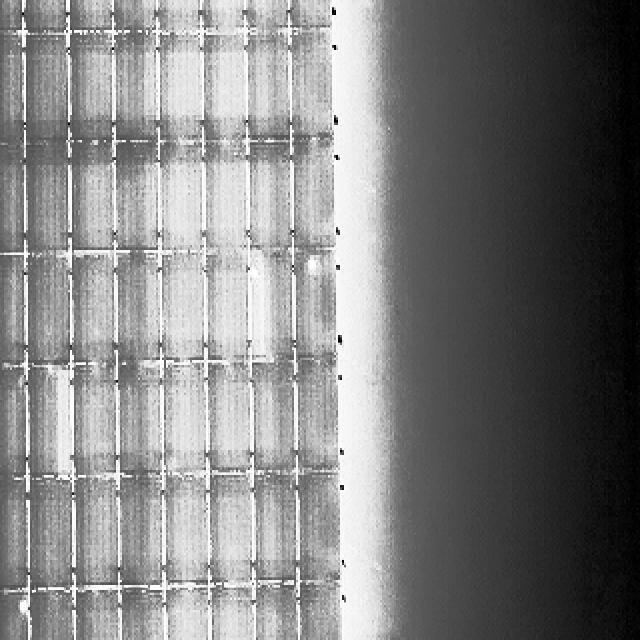Hotspots: (304, 259, 326, 273), (16, 600, 31, 616), (250, 264, 262, 280)
PV-modules: (69, 371, 119, 484), (297, 357, 345, 472), (298, 471, 347, 583), (71, 480, 120, 590), (163, 368, 210, 482), (26, 253, 74, 364), (69, 255, 116, 367), (114, 250, 161, 362), (161, 256, 208, 368), (114, 368, 160, 482), (27, 146, 74, 256), (295, 255, 342, 365), (163, 478, 210, 588), (252, 362, 298, 474), (295, 142, 340, 256), (205, 362, 250, 476), (30, 480, 76, 591), (26, 32, 72, 143), (204, 250, 250, 361), (250, 250, 296, 361), (114, 474, 159, 587), (201, 144, 246, 256), (207, 477, 252, 589), (113, 32, 160, 139), (66, 32, 112, 141), (254, 476, 299, 587), (114, 144, 160, 252), (158, 34, 204, 142), (200, 33, 245, 143), (160, 143, 205, 253), (30, 372, 74, 484), (246, 143, 290, 255), (69, 143, 114, 252), (288, 28, 332, 138), (243, 32, 286, 143), (0, 365, 26, 480), (0, 480, 26, 590), (0, 253, 24, 365), (0, 145, 24, 253), (254, 585, 301, 640), (207, 587, 255, 640), (296, 585, 342, 640), (0, 33, 22, 145), (72, 590, 121, 640), (164, 588, 210, 640), (29, 592, 78, 640), (119, 590, 166, 640), (198, 0, 244, 32), (240, 0, 288, 30), (112, 0, 156, 32), (156, 0, 202, 30), (66, 0, 112, 30), (0, 592, 30, 638), (26, 0, 70, 30), (286, 0, 328, 30), (0, 0, 24, 32)
